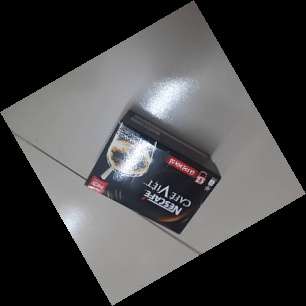CF Viet: (83, 109, 223, 235)
